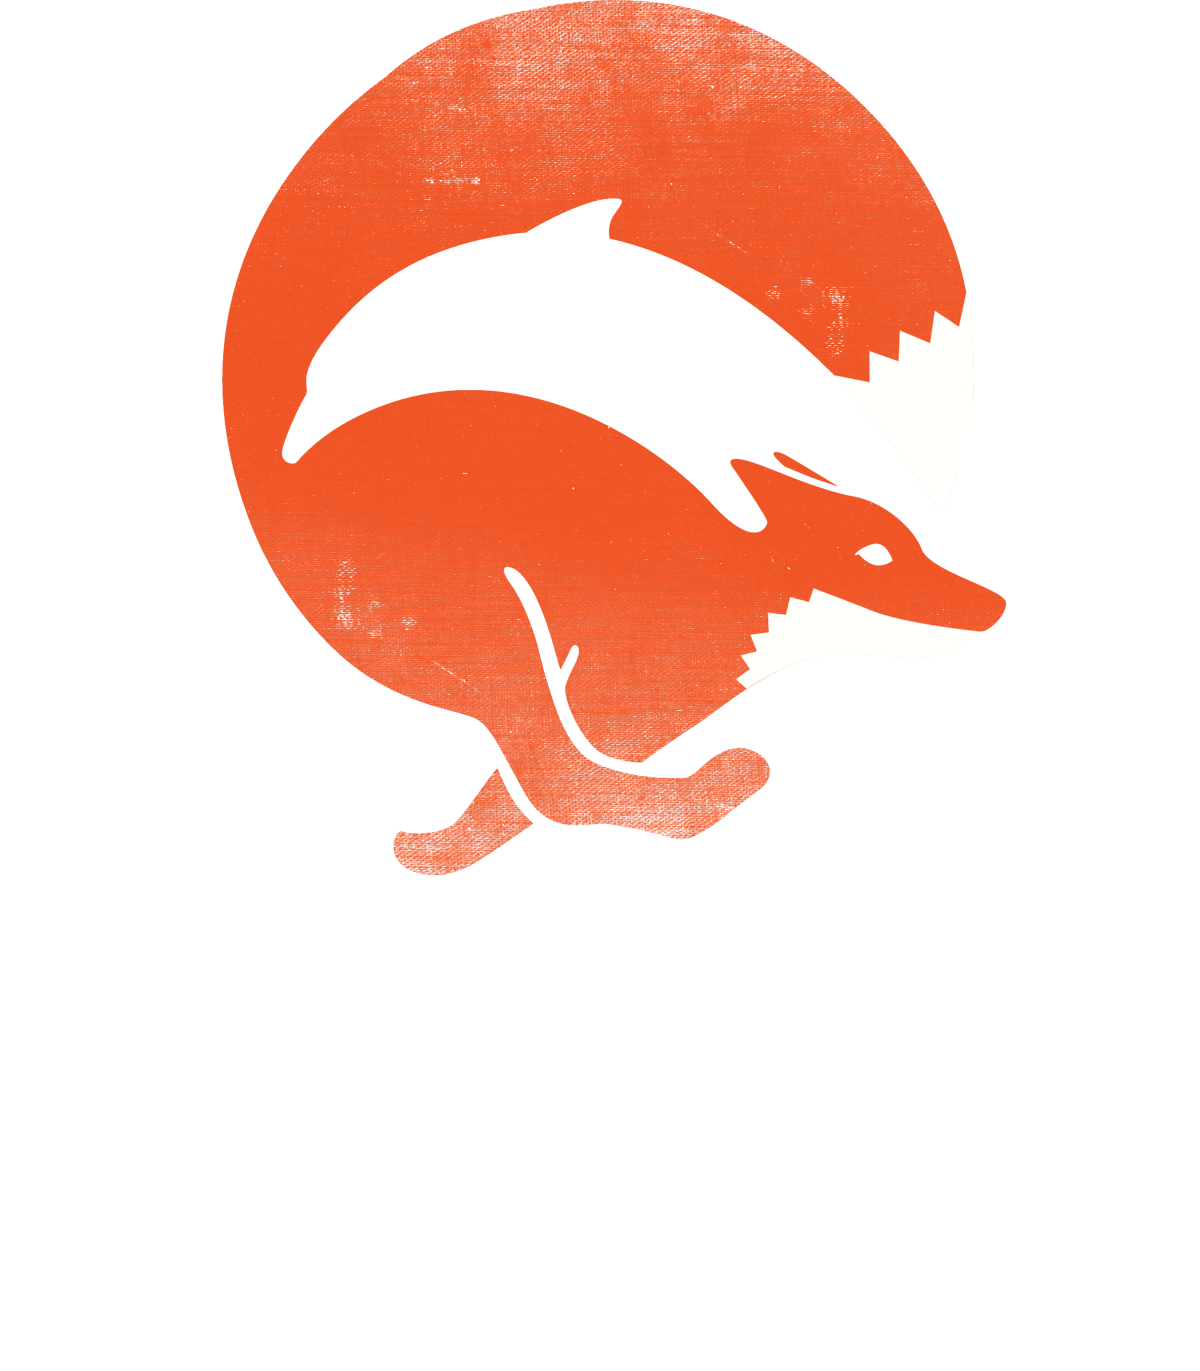design: (205, 1, 1029, 898)
